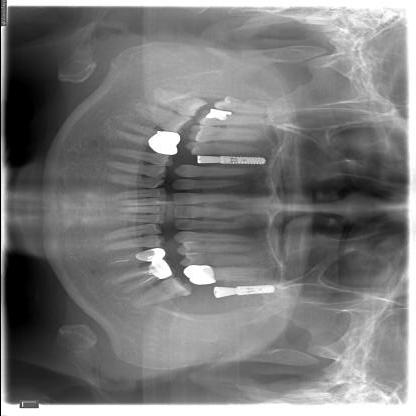ITI: (227, 285, 277, 297), (214, 155, 269, 165)
